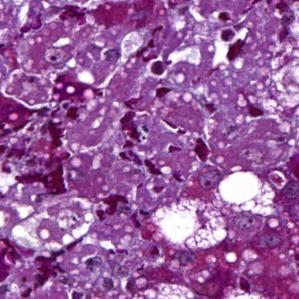ballooning: (144, 195, 229, 252)
